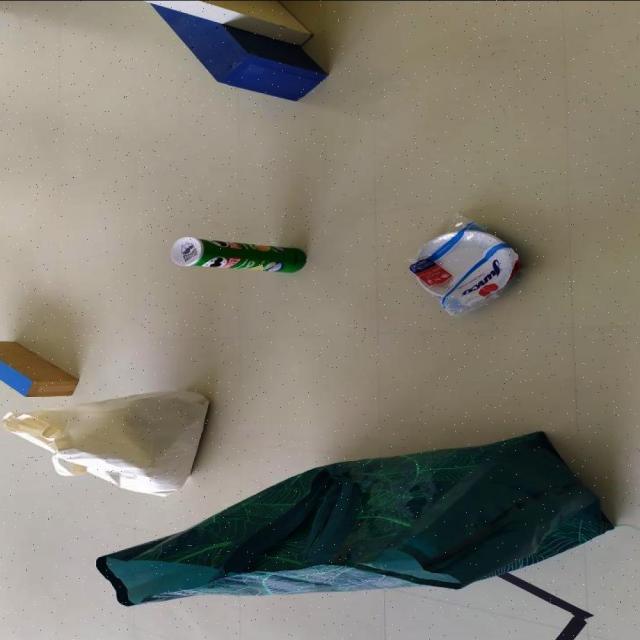Bag: (91, 430, 619, 599), (0, 387, 209, 499)
Plate: (408, 225, 533, 301)
Pringles: (170, 237, 310, 274)
